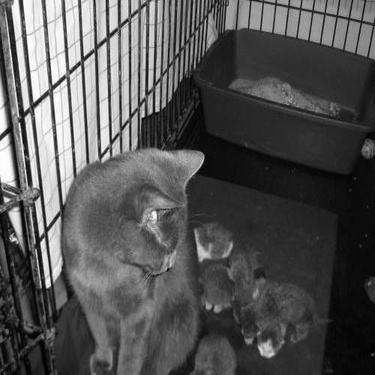cat: (63, 150, 205, 373), (195, 222, 239, 314), (261, 286, 315, 360), (230, 243, 265, 330), (195, 331, 236, 373), (247, 285, 265, 344)
